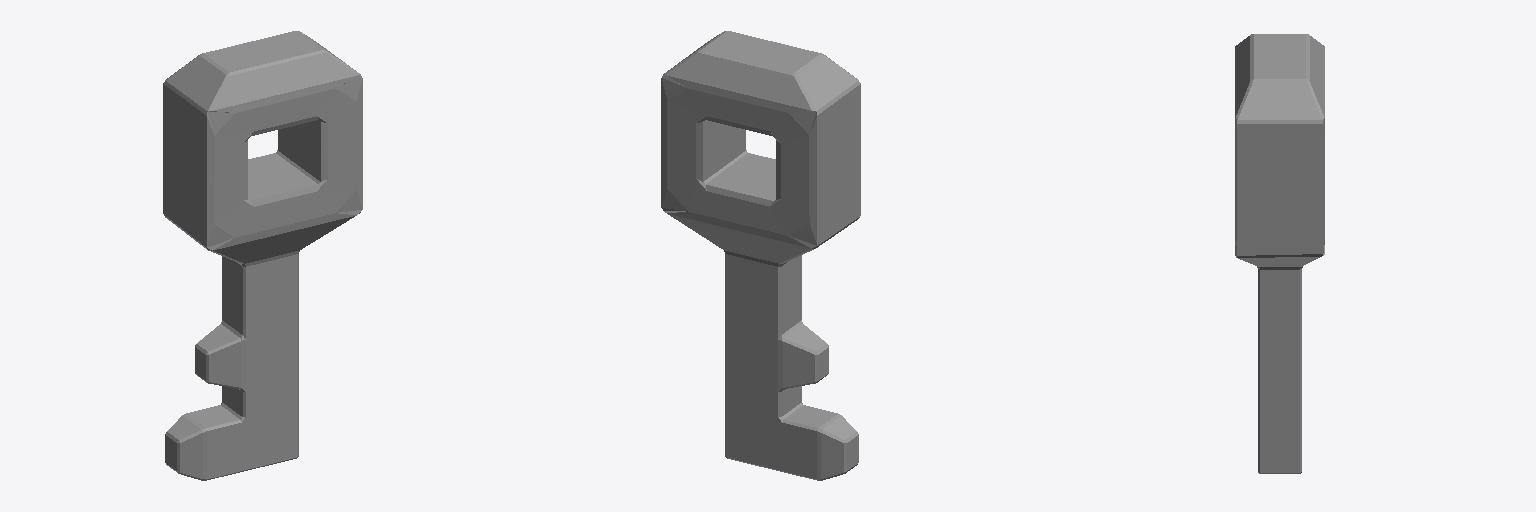
File: Key.obj
3 renders of one model, left to right at view 1: azimuth 30°, elevation 25°; view 2: azimuth 150°, elevation 25°; view 3: azimuth 270°, elevation 25°, orthographic.
Visible parts, largest first — view 1: Cube.004_Cube.005; view 2: Cube.004_Cube.005; view 3: Cube.004_Cube.005.
Boxes of the visible parts, x1=… form: Cube.004_Cube.005: x1=163, y1=31, x2=362, y2=480; Cube.004_Cube.005: x1=661, y1=31, x2=860, y2=480; Cube.004_Cube.005: x1=1235, y1=34, x2=1324, y2=473.
Size of the model in its own units: 1.72 by 3.92 by 0.797.